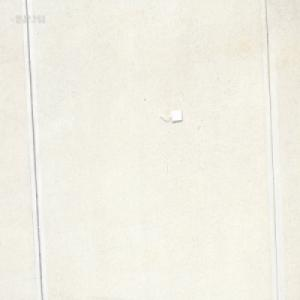LuggageTag: (159, 108, 182, 124)
